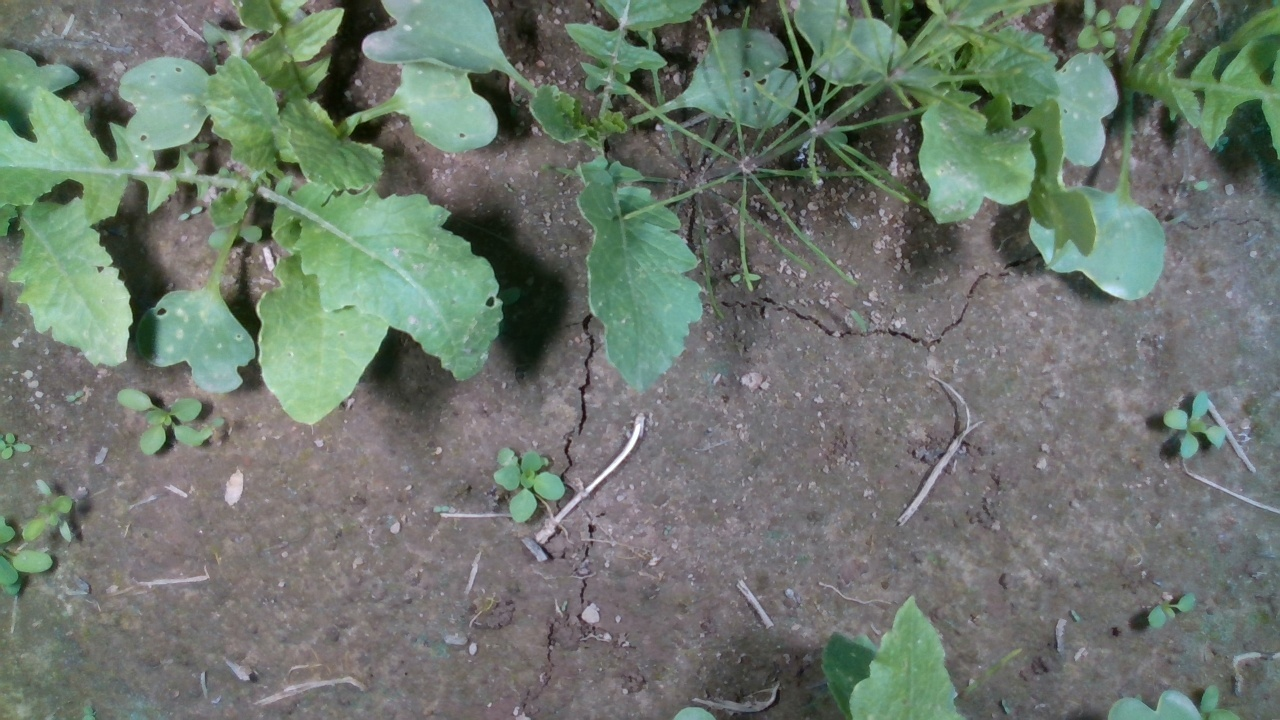weed: (1145, 591, 1198, 629)
